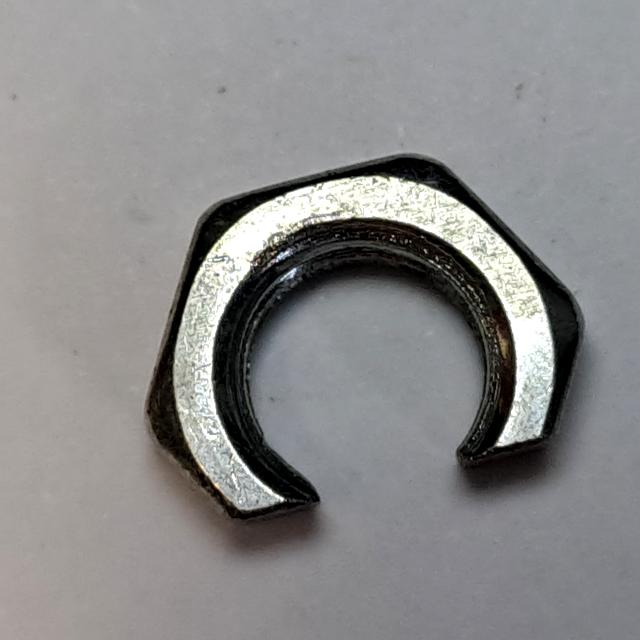Fracture: (130, 141, 597, 544)
